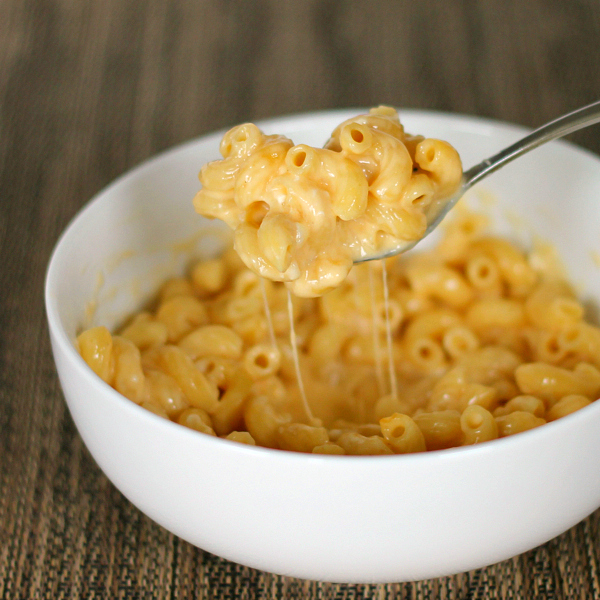macncheese: (114, 123, 591, 466)
